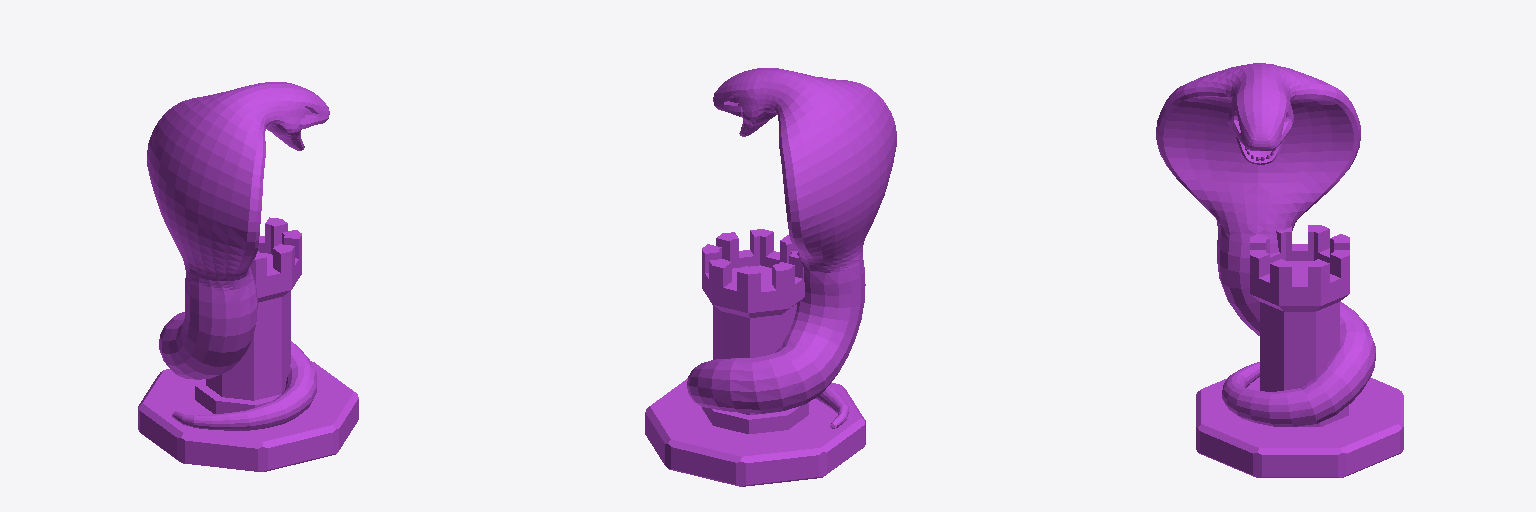
The model's file is Rook_Arbok.obj.
3 renders of one model, left to right at view 1: azimuth 30°, elevation 25°; view 2: azimuth 150°, elevation 25°; view 3: azimuth 270°, elevation 25°, orthographic.
Visible parts, largest first — view 1: Rook_Arbok; view 2: Rook_Arbok; view 3: Rook_Arbok.
Boxes of the visible parts, x1,y1,x2,y2 form: Rook_Arbok: [138, 82, 358, 471]; Rook_Arbok: [645, 68, 896, 486]; Rook_Arbok: [1156, 63, 1403, 477].
Bounding box in the file's own units: 39.85 × 73.47 × 46.24.